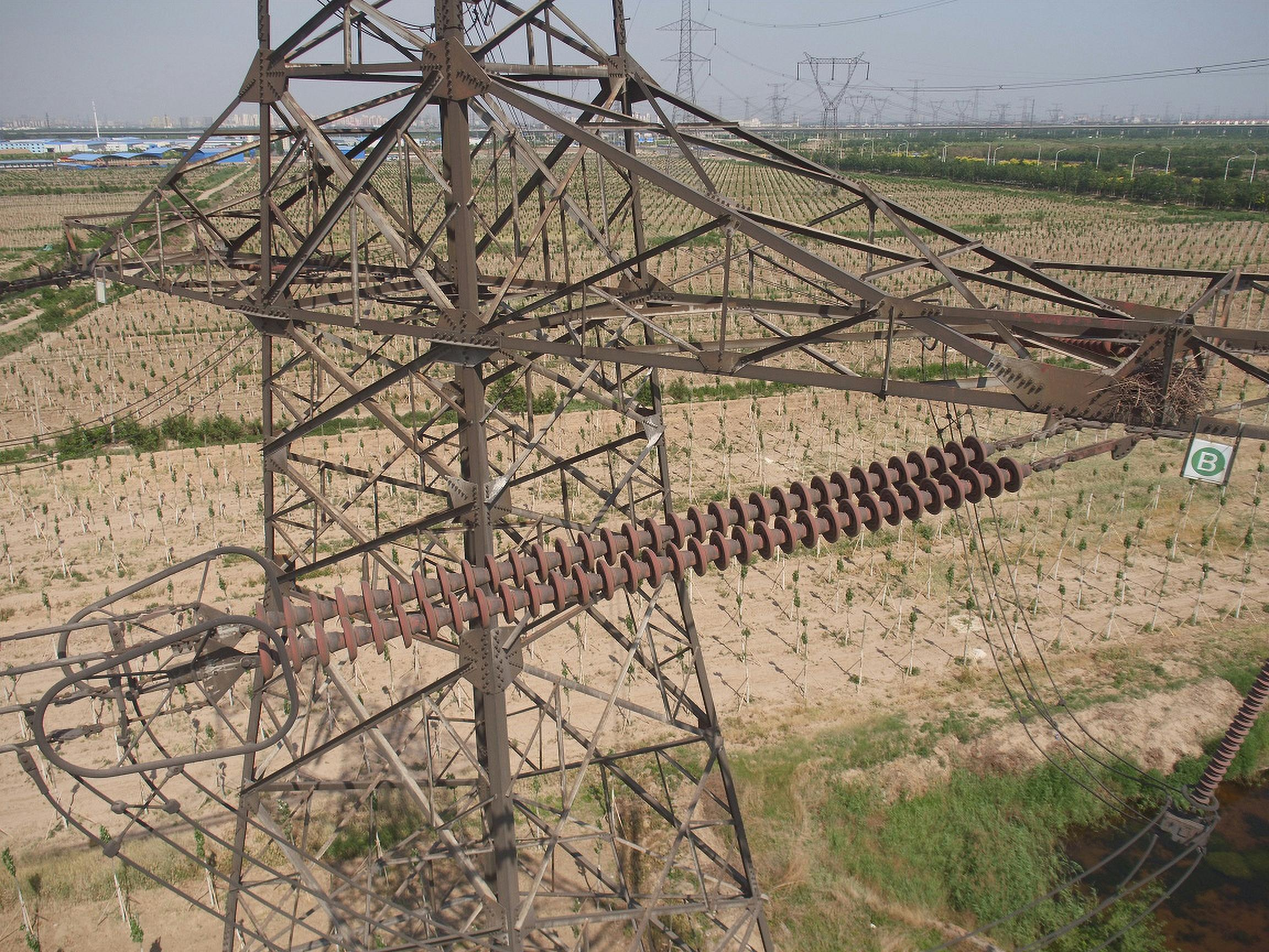insulator: (250, 432, 1027, 684), (1187, 653, 1269, 807)
